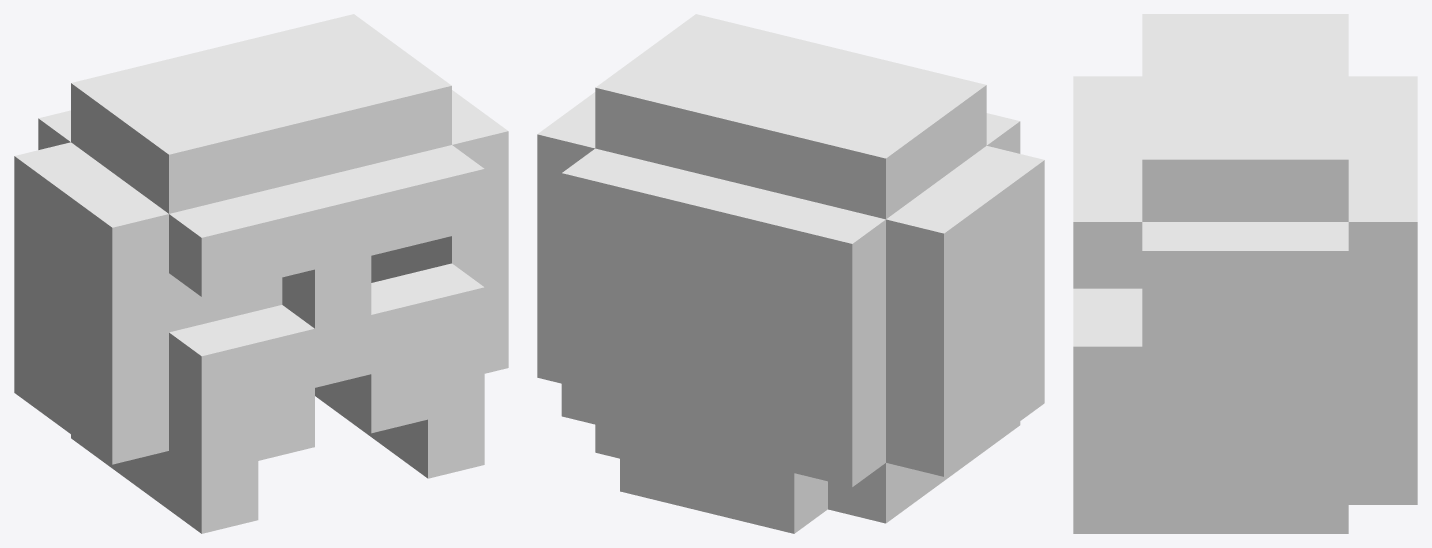
Rendered from lvl3-26.obj.
3 views of the same model, side by side, from view 1: azimuth 30°, elevation 25°; view 2: azimuth 150°, elevation 25°; view 3: azimuth 270°, elevation 25° (orthographic). The views are drawn at different scales.
Bounding box in the file's own units: 0.7 × 0.6 × 0.5.
1 material, 1 textured.
